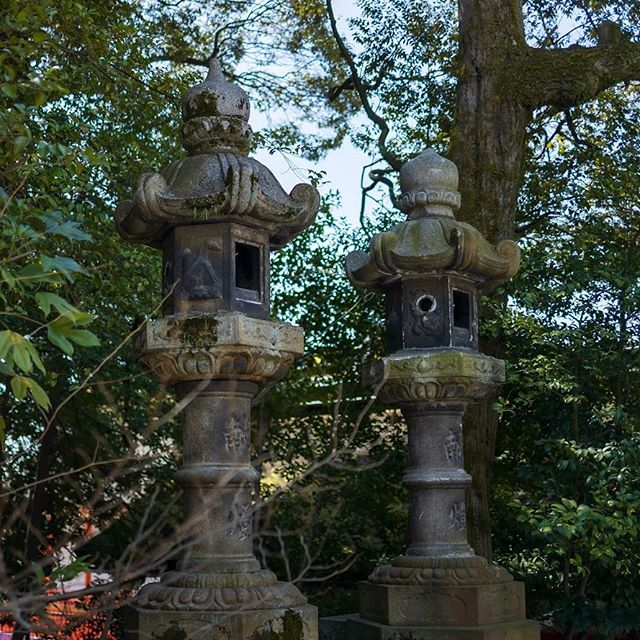light pole: (128, 84, 339, 630), (365, 173, 544, 640)
tree: (403, 16, 640, 452)
vegetation: (86, 1, 596, 177), (1, 4, 170, 521)
